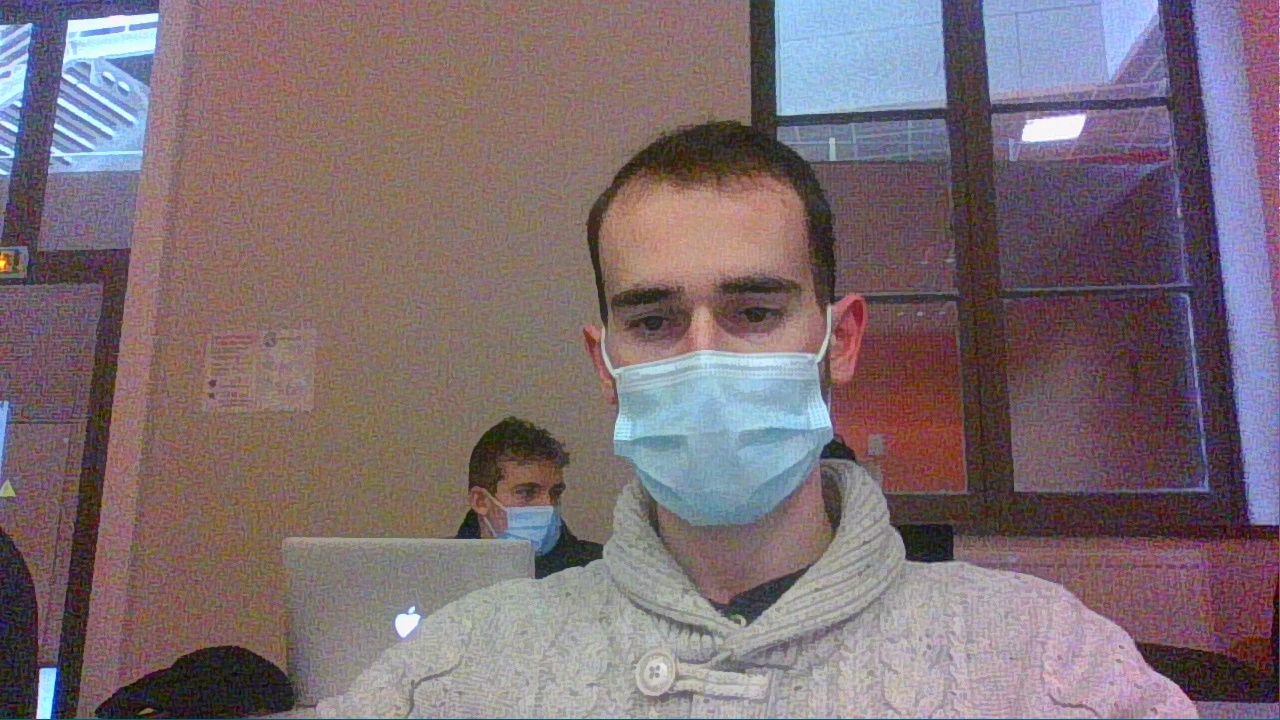mask: (581, 119, 870, 534), (466, 419, 564, 556)
